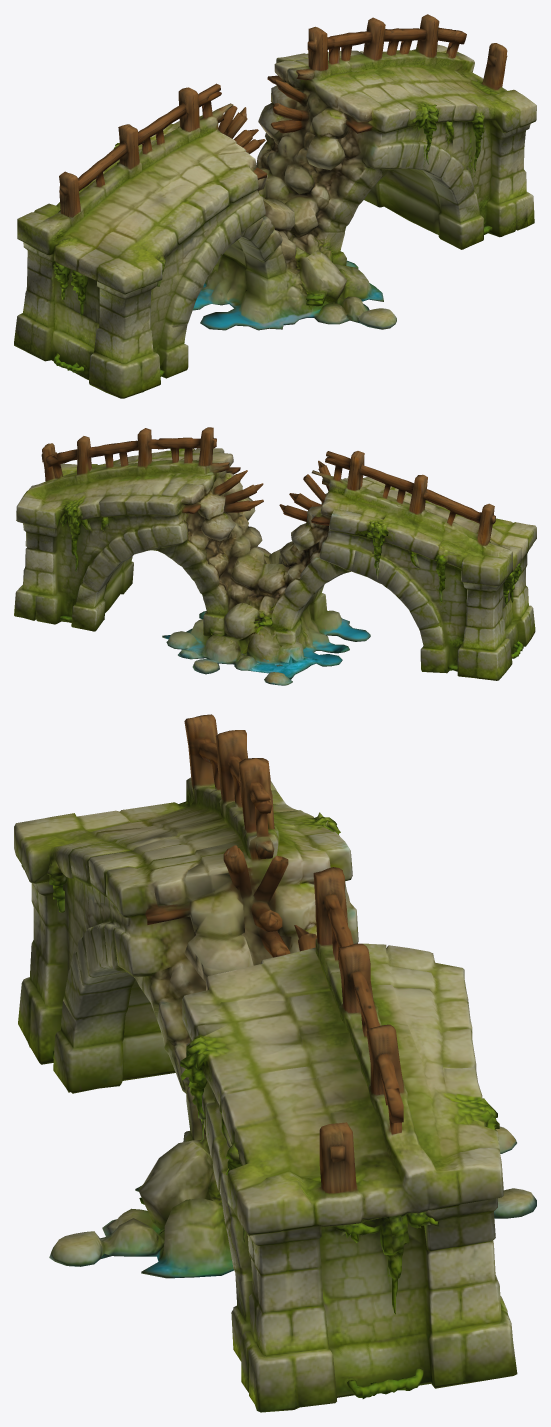
The model's file is bridge.glb.
The picture shows the model from 3 angles, top to bottom: view 1: azimuth 30°, elevation 25°; view 2: azimuth 150°, elevation 25°; view 3: azimuth 270°, elevation 25°; orthographic projection. The views are drawn at different scales.
Visible parts, largest first — view 1: tripo_node_ad7a4e88-9966-4b67-ac13-685af8c4ca16; view 2: tripo_node_ad7a4e88-9966-4b67-ac13-685af8c4ca16; view 3: tripo_node_ad7a4e88-9966-4b67-ac13-685af8c4ca16.
Part boxes in pixels (bbox=[...]): tripo_node_ad7a4e88-9966-4b67-ac13-685af8c4ca16: bbox=[14, 14, 536, 398]; tripo_node_ad7a4e88-9966-4b67-ac13-685af8c4ca16: bbox=[14, 427, 536, 685]; tripo_node_ad7a4e88-9966-4b67-ac13-685af8c4ca16: bbox=[14, 714, 536, 1412].
Bounding box in the file's own units: 0.9769 × 0.4263 × 0.5104.
Materials: 1 (1 with a texture image).
